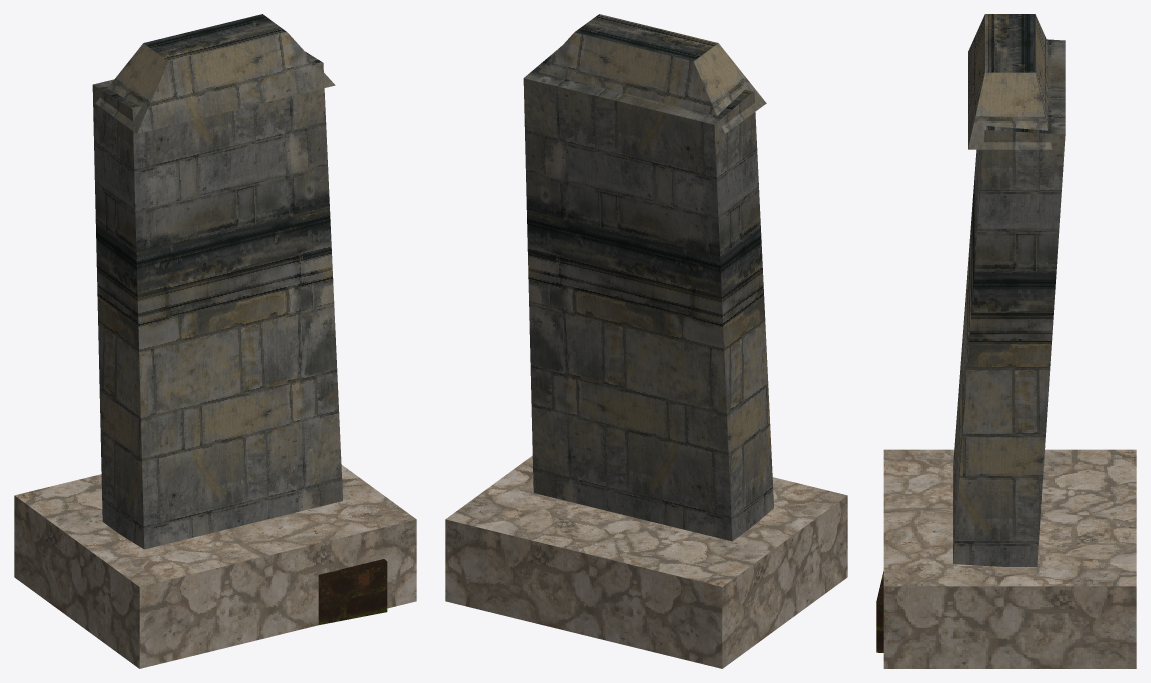
File: temple_statue_stele.glb
3 renders of one model, left to right at view 1: azimuth 30°, elevation 25°; view 2: azimuth 150°, elevation 25°; view 3: azimuth 270°, elevation 25°, orthographic.
Parts seen in each view (by area): view 1: temple_statue_stele; view 2: temple_statue_stele; view 3: temple_statue_stele.
Part boxes in pixels (<box>): temple_statue_stele: <box>14,14,416,668</box>; temple_statue_stele: <box>445,14,847,668</box>; temple_statue_stele: <box>876,14,1136,668</box>.
Size of the model in its own units: 0.92 by 1.75 by 0.7411.
Materials: 3 (3 with a texture image).
